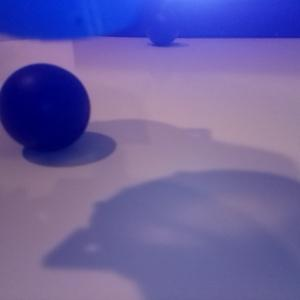dead_ball: (1, 61, 90, 153), (145, 10, 178, 46)
